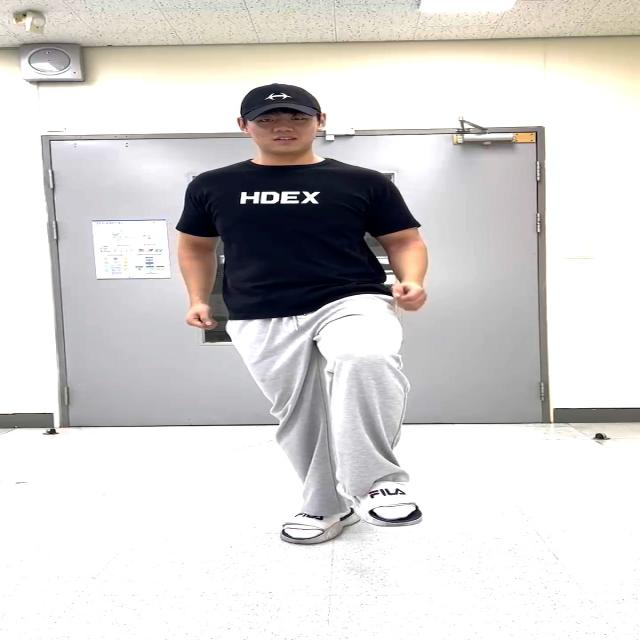leg: (300, 292, 522, 576)
